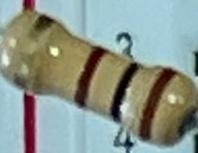Black: (106, 58, 145, 124)
Brown: (135, 67, 181, 145), (69, 45, 110, 110)
Side-Gold: (6, 11, 61, 95)
